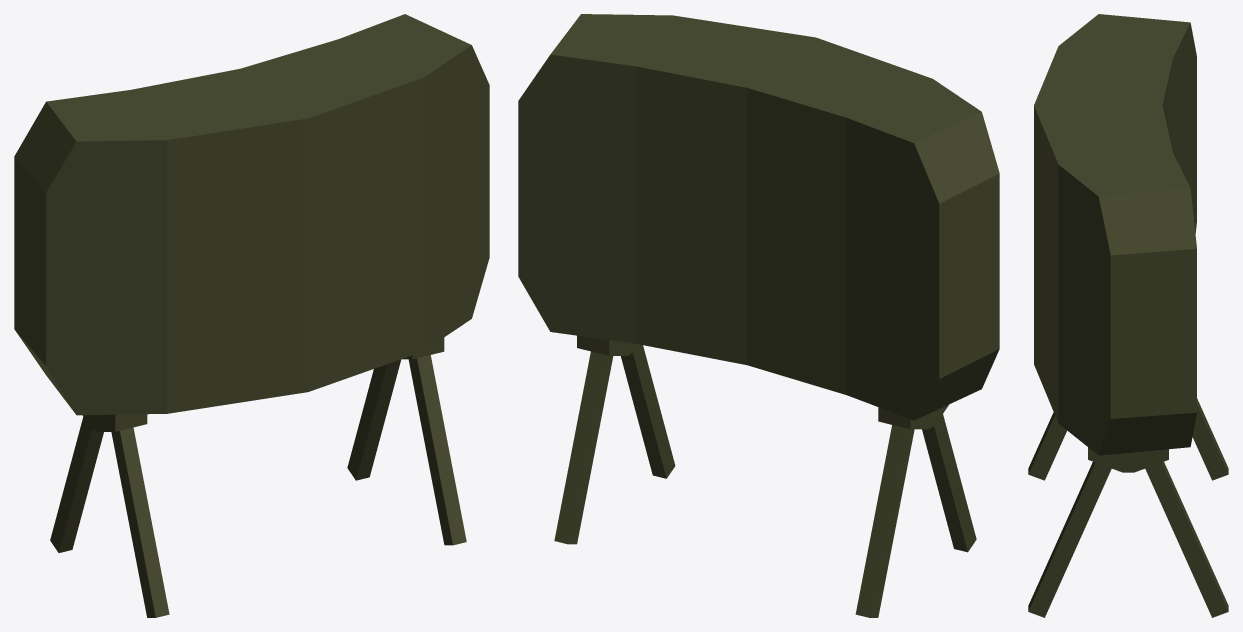
The model's file is LPWarPack_Claymore.fbx.
3 views of the same model, side by side, from view 1: azimuth 30°, elevation 25°; view 2: azimuth 150°, elevation 25°; view 3: azimuth 270°, elevation 25° (orthographic). The views are drawn at different scales.
Parts seen in each view (by area): view 1: Claymore; view 2: Claymore; view 3: Claymore.
Part boxes in pixels (left/top/right/bottom): Claymore: left=14, top=14, right=489, bottom=617; Claymore: left=518, top=14, right=999, bottom=617; Claymore: left=1028, top=14, right=1228, bottom=617.
Size of the model in its own units: 23.24 by 23.33 by 9.6.
